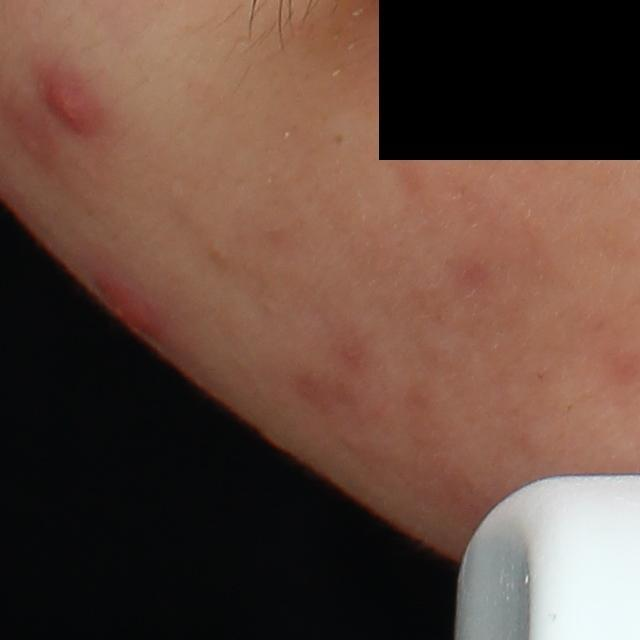papule: (35, 57, 112, 151), (104, 272, 167, 341)
